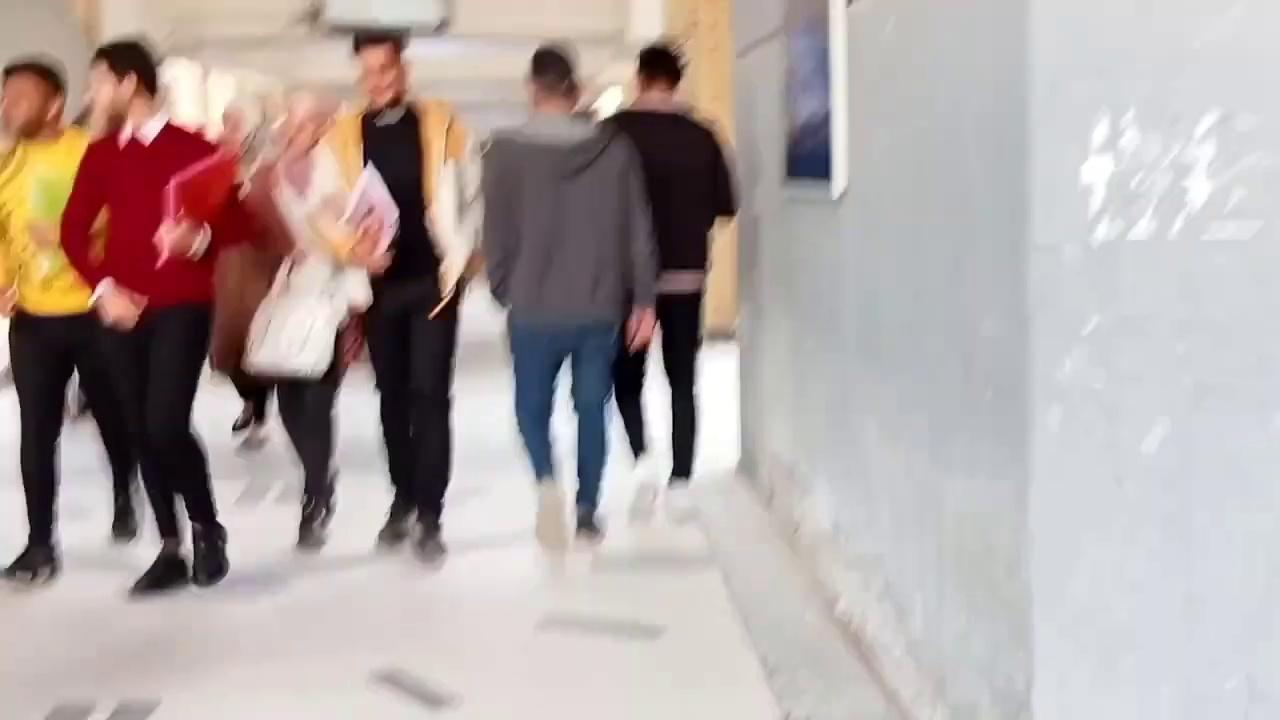person: (274, 25, 485, 565), (58, 39, 231, 593), (478, 45, 660, 548), (0, 55, 139, 585), (596, 43, 741, 491), (260, 84, 395, 549)
